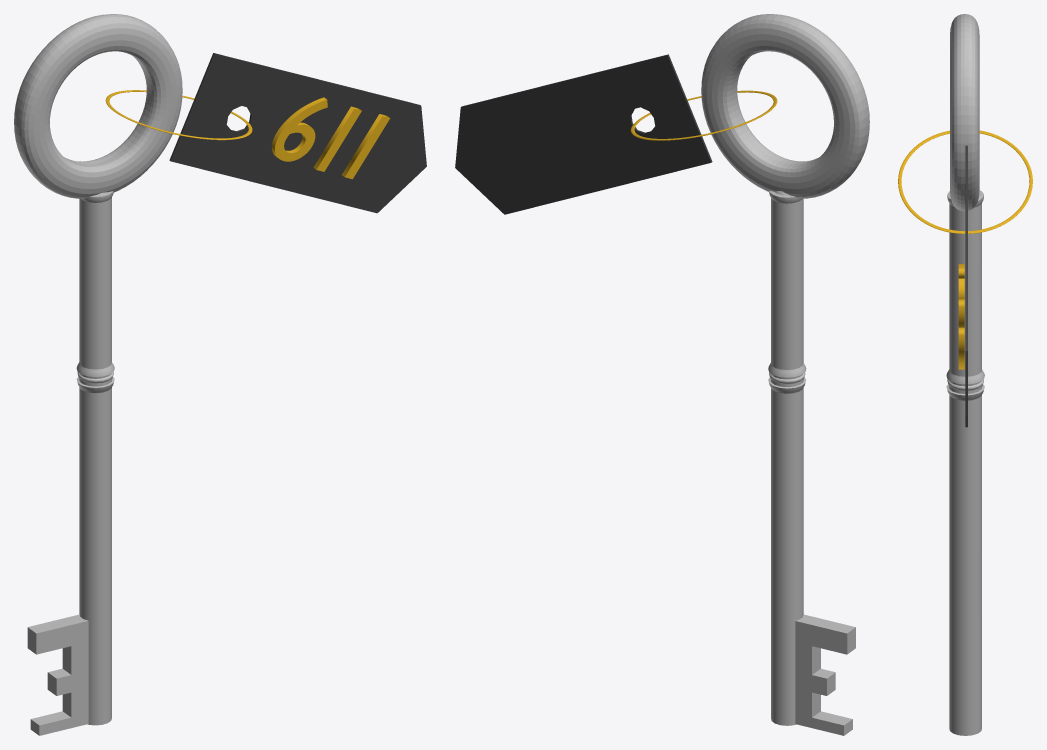
Rendered from key611.fbx.
The picture shows the model from 3 angles, left to right: view 1: azimuth 30°, elevation 25°; view 2: azimuth 150°, elevation 25°; view 3: azimuth 270°, elevation 25°; orthographic projection.
Visible parts, largest first — view 1: key611; view 2: key611; view 3: key611.
Part boxes in pixels (x1,y1,x2,y2): key611: [14, 14, 426, 735]; key611: [455, 14, 869, 735]; key611: [898, 14, 1032, 735].
Size of the model in its own units: 8.68 by 14.18 by 2.45.
